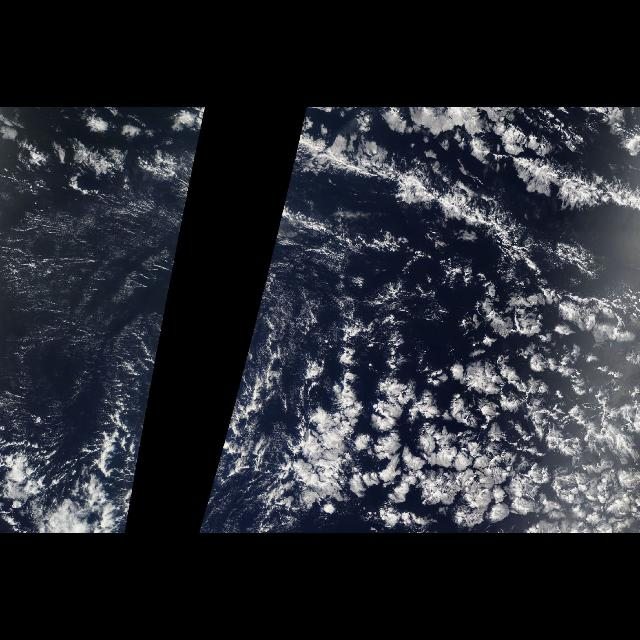Fish: (267, 124, 543, 272)
Flower: (344, 289, 640, 533)
Sugar: (2, 157, 192, 480), (212, 236, 342, 479)
